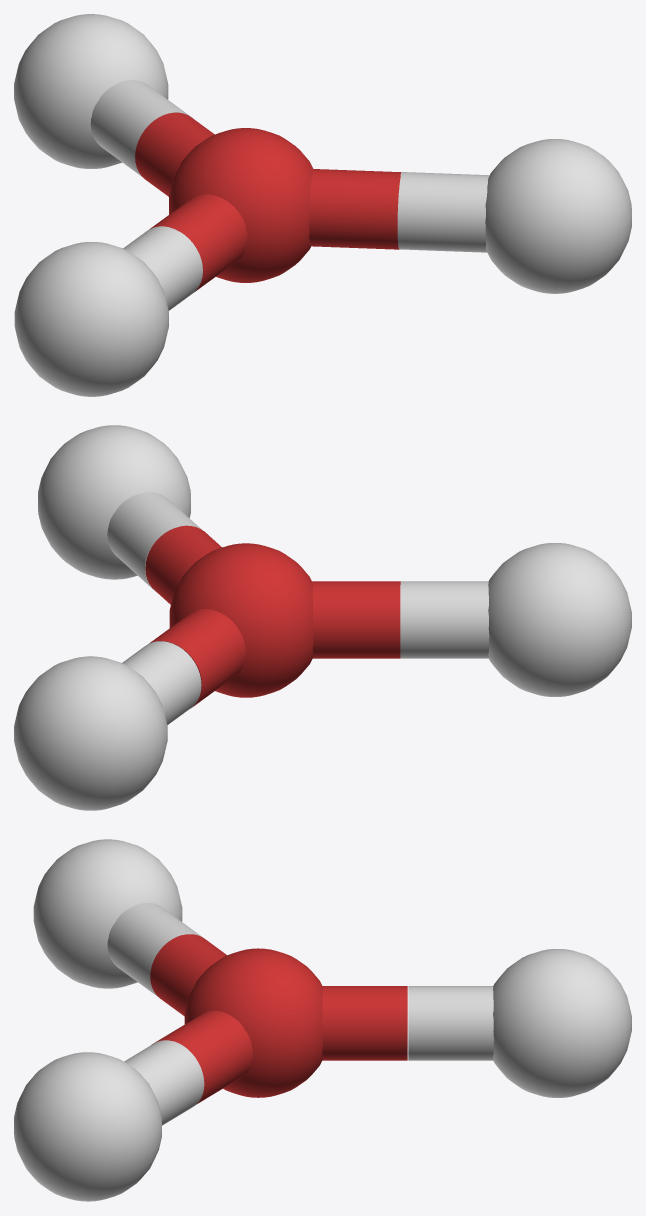
The picture shows the model from 3 angles, top to bottom: view 1: azimuth 30°, elevation 25°; view 2: azimuth 150°, elevation 25°; view 3: azimuth 270°, elevation 25°; orthographic projection. The views are drawn at different scales.
Visible parts, largest first — view 1: Sphere_1_2, Sphere_1_3, Sphere_1, Sphere, Cylinder, Cylinder_2_4, Cylinder_1, Cylinder_2, Cylinder_2_2, Cylinder_2_3; view 2: Sphere_1, Sphere_1_2, Sphere_1_3, Sphere, Cylinder_2_2, Cylinder_1, Cylinder_2_3, Cylinder_2_4, Cylinder_2, Cylinder; view 3: Sphere_1_3, Sphere_1, Sphere_1_2, Sphere, Cylinder_2, Cylinder_2_3, Cylinder, Cylinder_2_2, Cylinder_2_4, Cylinder_1.
Part boxes in pixels (left/top/right/bottom): Sphere_1_2: left=14, top=242, right=168, bottom=396; Sphere_1_3: left=485, top=139, right=631, bottom=293; Sphere_1: left=14, top=14, right=168, bottom=168; Sphere: left=169, top=128, right=313, bottom=282; Cylinder: left=309, top=169, right=401, bottom=249; Cylinder_2_4: left=397, top=172, right=489, bottom=252; Cylinder_1: left=149, top=194, right=247, bottom=292; Cylinder_2: left=90, top=80, right=192, bottom=176; Cylinder_2_2: left=123, top=226, right=202, bottom=310; Cylinder_2_3: left=135, top=112, right=214, bottom=196; Sphere_1: left=14, top=656, right=167, bottom=810; Sphere_1_2: left=488, top=543, right=631, bottom=696; Sphere_1_3: left=38, top=425, right=190, bottom=579; Sphere: left=169, top=543, right=313, bottom=697; Cylinder_2_2: left=400, top=581, right=489, bottom=658; Cylinder_1: left=312, top=581, right=400, bottom=658; Cylinder_2_3: left=149, top=609, right=245, bottom=707; Cylinder_2_4: left=107, top=492, right=201, bottom=591; Cylinder_2: left=122, top=641, right=201, bottom=724; Cylinder: left=145, top=525, right=221, bottom=604; Sphere_1_3: left=14, top=1052, right=161, bottom=1201; Sphere_1: left=493, top=949, right=631, bottom=1097; Sphere_1_2: left=33, top=839, right=182, bottom=988; Sphere: left=184, top=948, right=322, bottom=1097; Cylinder_2: left=408, top=986, right=493, bottom=1060; Cylinder_2_3: left=322, top=986, right=407, bottom=1060; Cylinder: left=152, top=1010, right=253, bottom=1104; Cylinder_2_2: left=107, top=903, right=204, bottom=997; Cylinder_2_4: left=124, top=1040, right=204, bottom=1125; Cylinder_1: left=150, top=934, right=226, bottom=1016.
Bounding box in the file's own units: 872 × 200 × 827.
